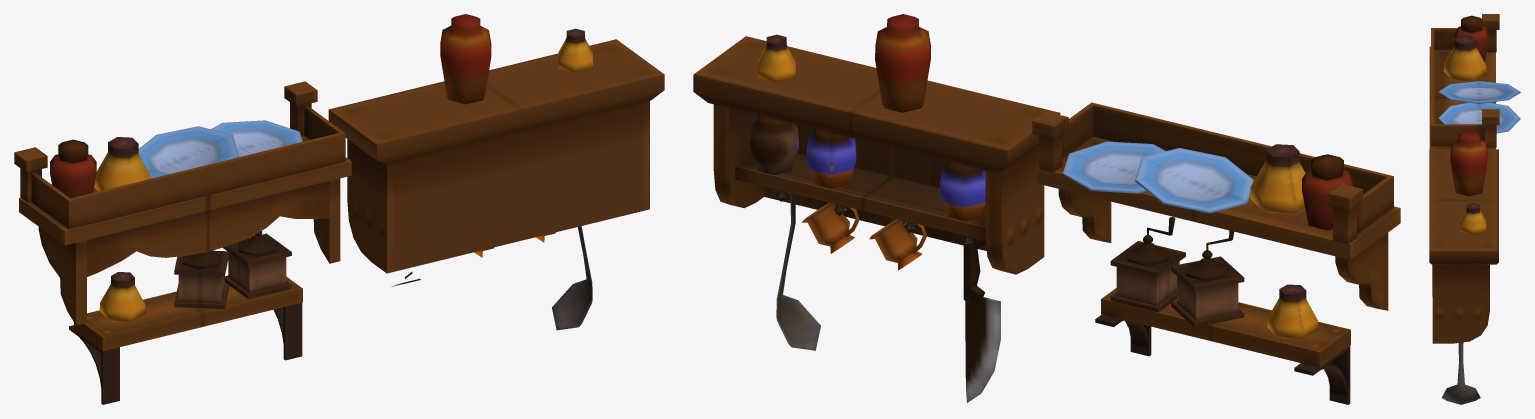
Rendered from Hang_Cupboard.gltf.
3 renders of one model, left to right at view 1: azimuth 30°, elevation 25°; view 2: azimuth 150°, elevation 25°; view 3: azimuth 270°, elevation 25°, orthographic. The views are drawn at different scales.
Parts seen in each view (by area): view 1: Hang_Cupboard; view 2: Hang_Cupboard; view 3: Hang_Cupboard.
Boxes of the visible parts, <box> form: Hang_Cupboard: <box>14,14,664,404</box>; Hang_Cupboard: <box>693,14,1400,404</box>; Hang_Cupboard: <box>1429,14,1520,404</box>.
Size of the model in its own units: 83.59 by 45.64 by 15.17.
Materials: 1 (1 with a texture image).
